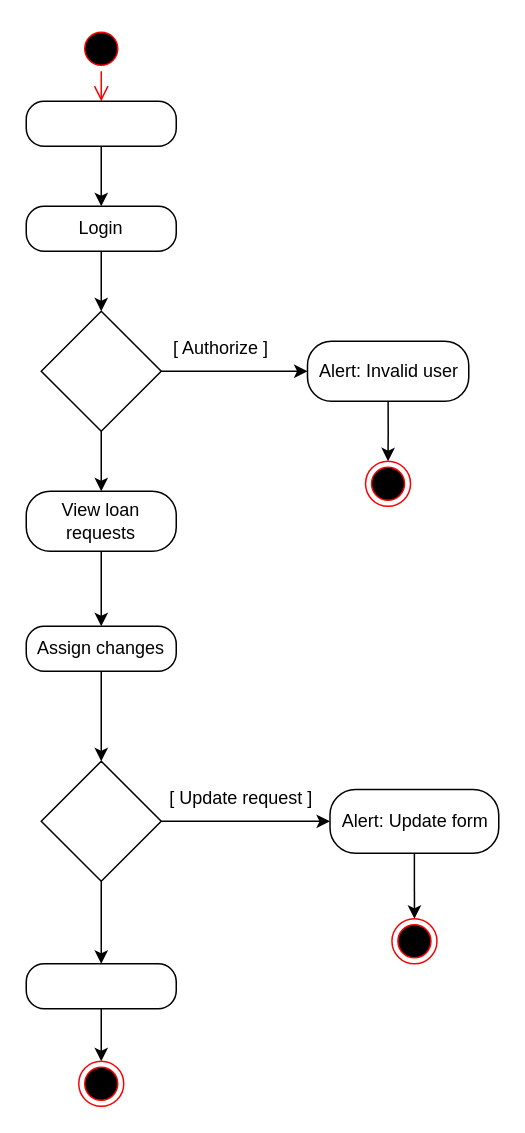
This 525x1133 diagram has some shape labels left out. Here are the shapes that lost their labels. From the top down, the box of each, then its label:
(25, 100, 176, 146): Register
(25, 962, 176, 1009): Approve
